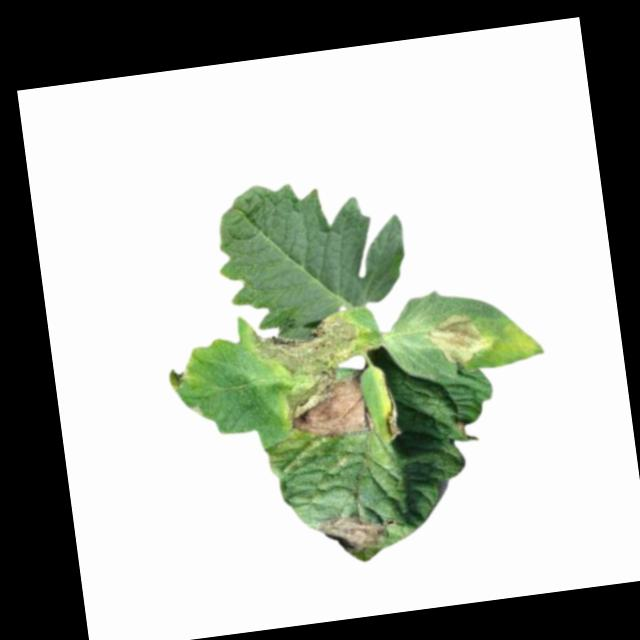Late_blight: (249, 310, 362, 381), (278, 365, 374, 445), (424, 307, 494, 368), (314, 509, 389, 558), (375, 376, 403, 437), (167, 361, 195, 393), (451, 419, 468, 440)
healthy: (207, 165, 415, 348)
